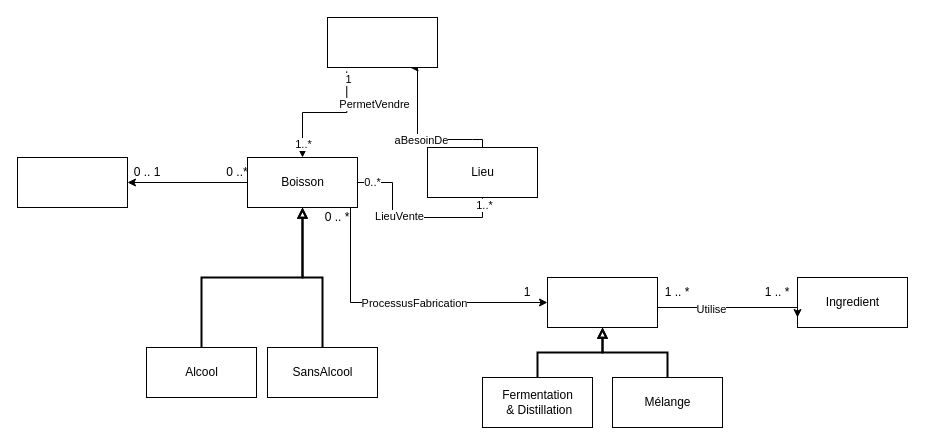
Some shapes in this 925 by 445 pixel diagram are drawn without their labels. Each missing label, with the centre of its shape:
Licence: the point at 382,42
Plage de vente: the point at 72,182
Processus: the point at 602,302
